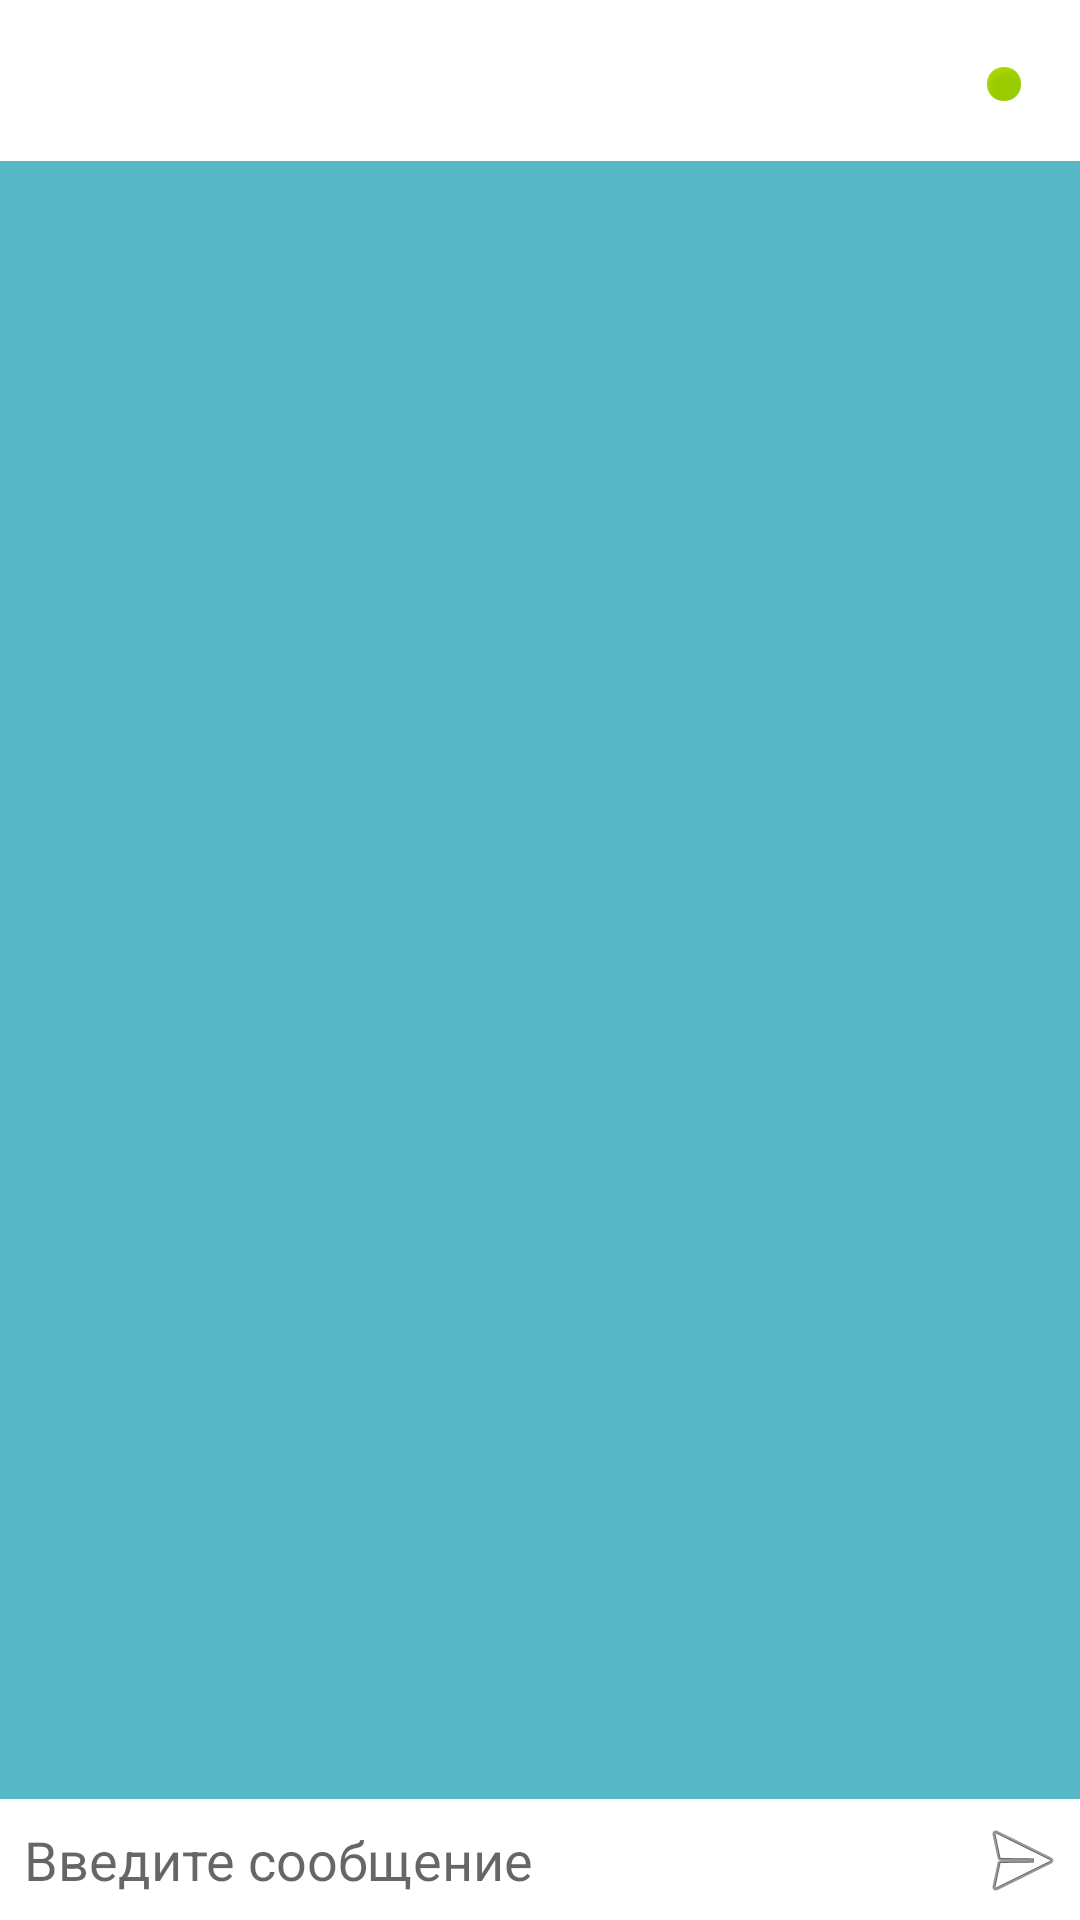

Screen size 1080px×1920px. Icon name, then its box in pixels as (left=x1, top=y1, right=x2, bottom=y2):
send: (left=992, top=1830, right=1054, bottom=1891)
